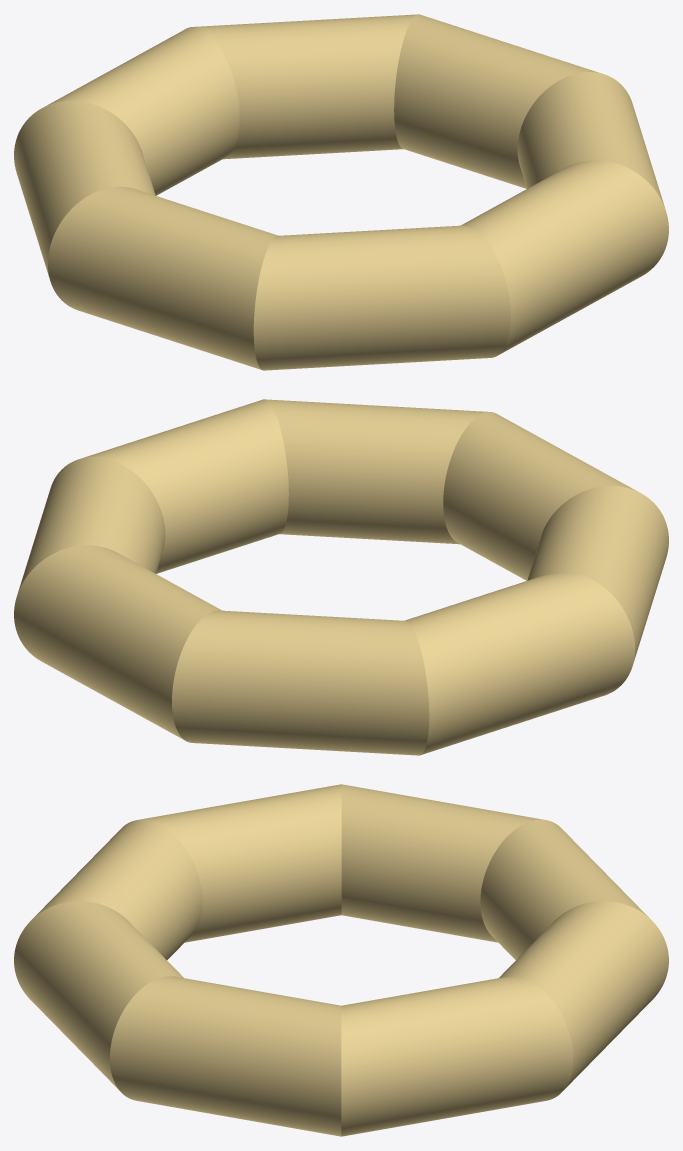
3 views of the same model, one above another, from view 1: azimuth 30°, elevation 25°; view 2: azimuth 150°, elevation 25°; view 3: azimuth 270°, elevation 25° (orthographic). The views are drawn at different scales.
Parts seen in each view (by area): view 1: Torus.002; view 2: Torus.002; view 3: Torus.002.
Boxes of the visible parts, x1,y1,x2,y2 form: Torus.002: (14, 14, 668, 370); Torus.002: (14, 399, 668, 755); Torus.002: (14, 784, 668, 1136).
Size of the model in its own units: 2.5 by 0.5 by 2.5.
